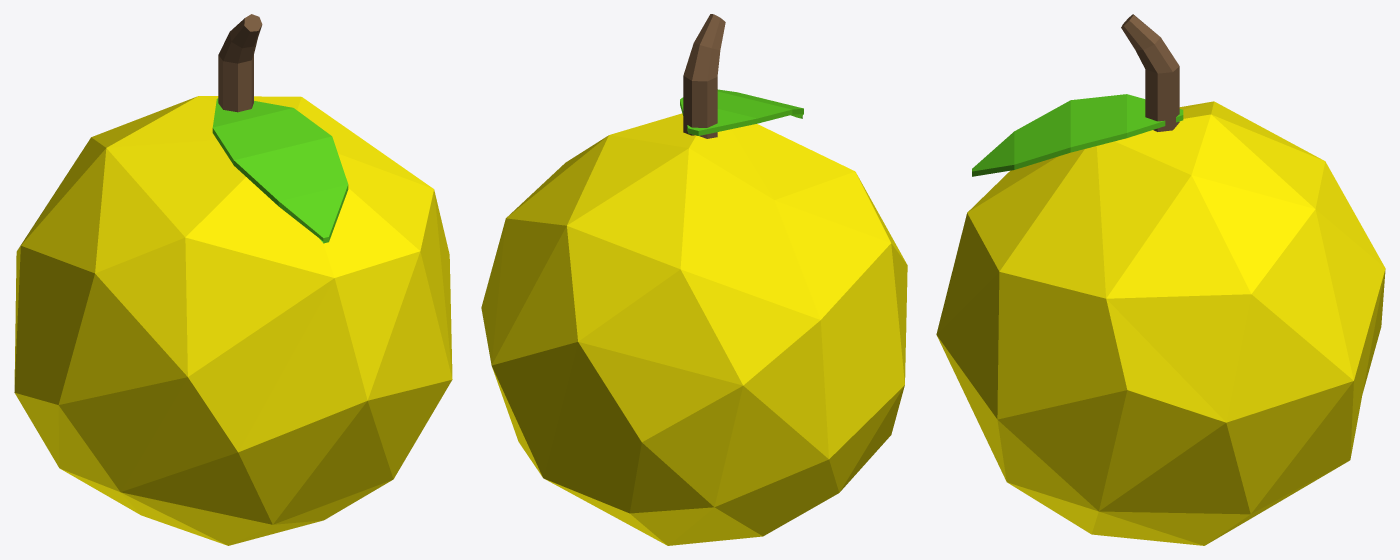
The model's file is goldApple.fbx.
3 views of the same model, side by side, from view 1: azimuth 30°, elevation 25°; view 2: azimuth 150°, elevation 25°; view 3: azimuth 270°, elevation 25° (orthographic). The views are drawn at different scales.
Parts seen in each view (by area): view 1: Icosphere, Plane, Cylinder; view 2: Icosphere, Cylinder, Plane; view 3: Icosphere, Plane, Cylinder.
Part boxes in pixels (x1=…): Icosphere: x1=14, y1=96, x2=452, y2=545; Plane: x1=212, y1=98, x2=348, y2=243; Cylinder: x1=218, y1=14, x2=262, y2=112; Icosphere: x1=481, y1=113, x2=907, y2=545; Cylinder: x1=683, y1=14, x2=725, y2=138; Plane: x1=680, y1=89, x2=803, y2=135; Icosphere: x1=936, y1=101, x2=1385, y2=545; Plane: x1=972, y1=94, x2=1183, y2=176; Cylinder: x1=1121, y1=14, x2=1179, y2=131.
Bounding box in the file's own units: 50.75 × 64.21 × 51.29.
